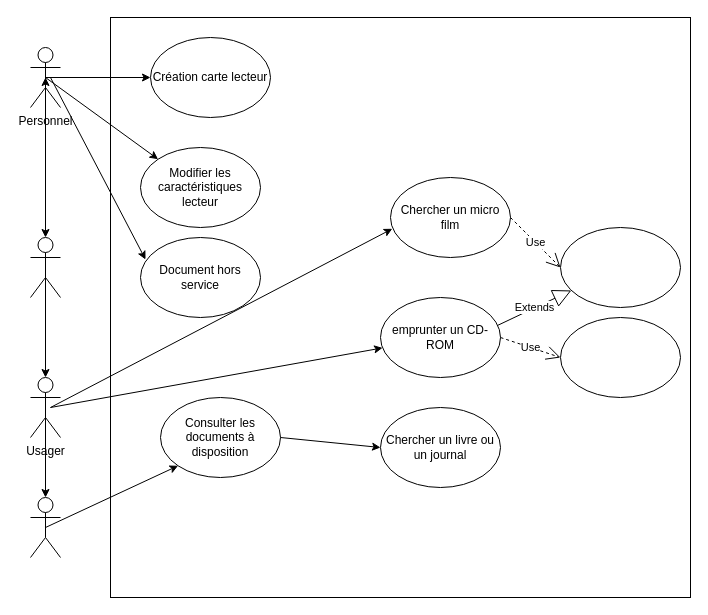
Image size: 708x615. Some labels were removed from this diagram. Here are the shapes that lost their labels. From the top down, the box of each, then its label:
(30, 236, 60, 298): Bénévoles
(560, 226, 680, 308): Ecran de lecture libre
(560, 316, 680, 398): caution et carte de lecteur
(30, 496, 60, 558): Visiteur
